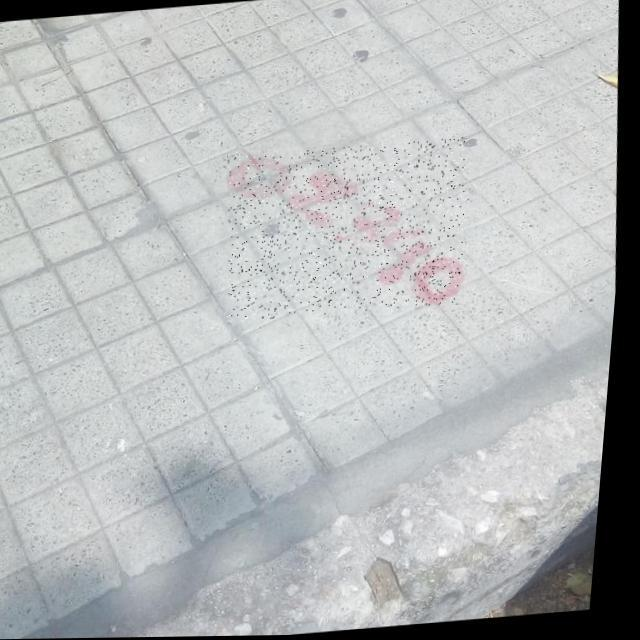-: (220, 138, 478, 323)
